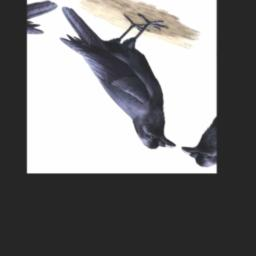Crow: (33, 0, 208, 158)
